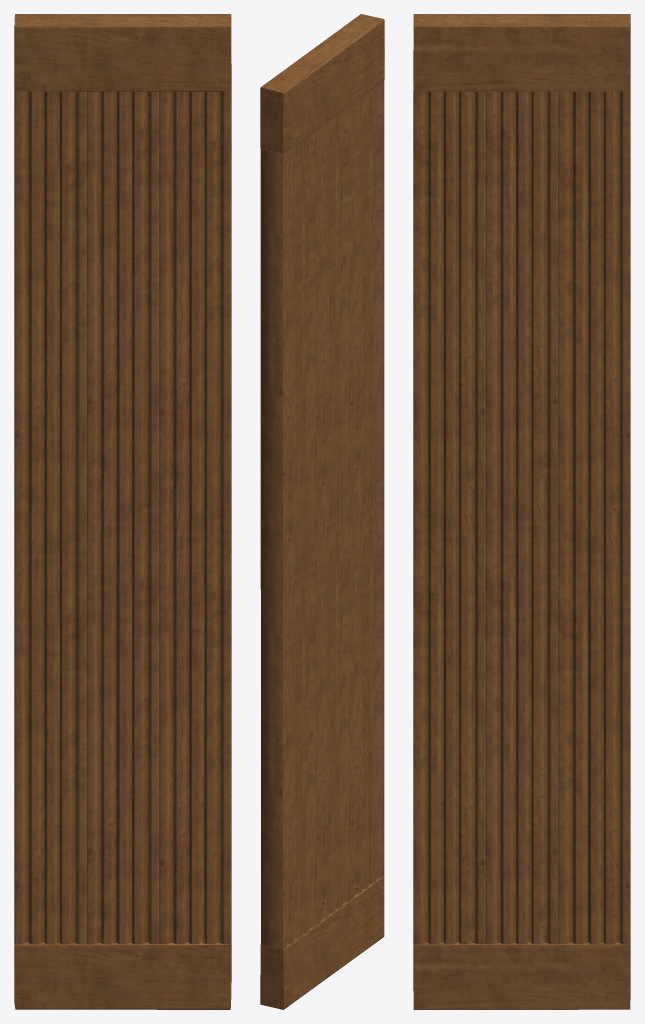
File: SM_Office_wall01n.fbx
3 renders of one model, left to right at view 1: azimuth 90°, elevation 25°; view 2: azimuth 150°, elevation 25°; view 3: azimuth 270°, elevation 25°, orthographic. The views are drawn at different scales.
Visible parts, largest first — view 1: SM_Office_wall01n_LOD0; view 2: SM_Office_wall01n_LOD0; view 3: SM_Office_wall01n_LOD0.
Part boxes in pixels (<box>): SM_Office_wall01n_LOD0: <box>14,14,231,1009</box>; SM_Office_wall01n_LOD0: <box>260,14,384,1009</box>; SM_Office_wall01n_LOD0: <box>413,14,630,1009</box>.
Bounding box in the file's own units: 20.29 × 150 × 750.
